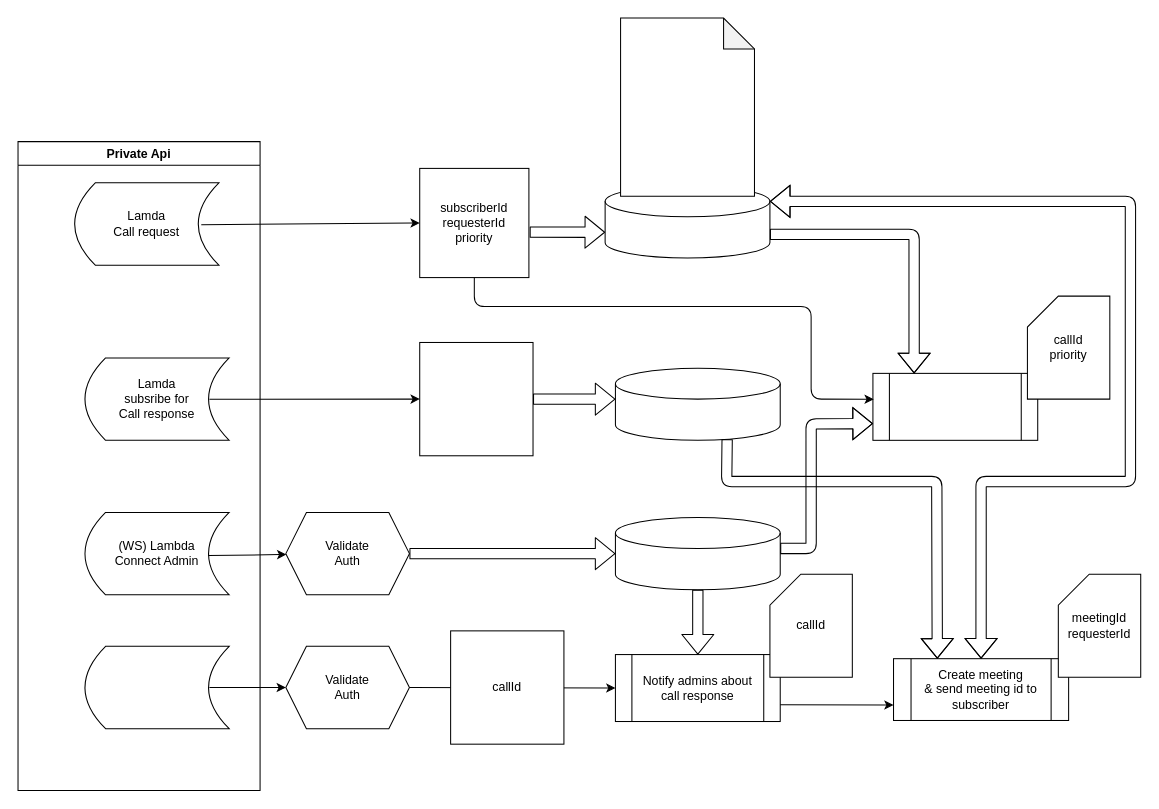
The diagram is 1159 pixels wide and 809 high, and some of its shapes have lost their labels. Each missing label, with the centre of its shape:
"(WS) Lambda Response to call" goes at pixel 156 687.
"callId subscriberId requesterId priority meetinId adminId" goes at pixel 687 106.
"Calls" goes at pixel 687 221.
"Connected Admins" goes at pixel 697 553.
"Notify admins about incoming call" goes at pixel 955 406.
"subscriberId callbackInfo" goes at pixel 476 398.
"Subsribers" goes at pixel 697 403.
